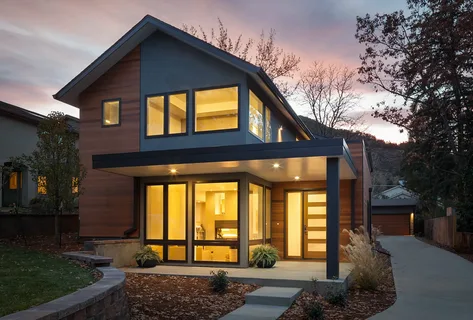private_hause: (71, 39, 353, 263)
